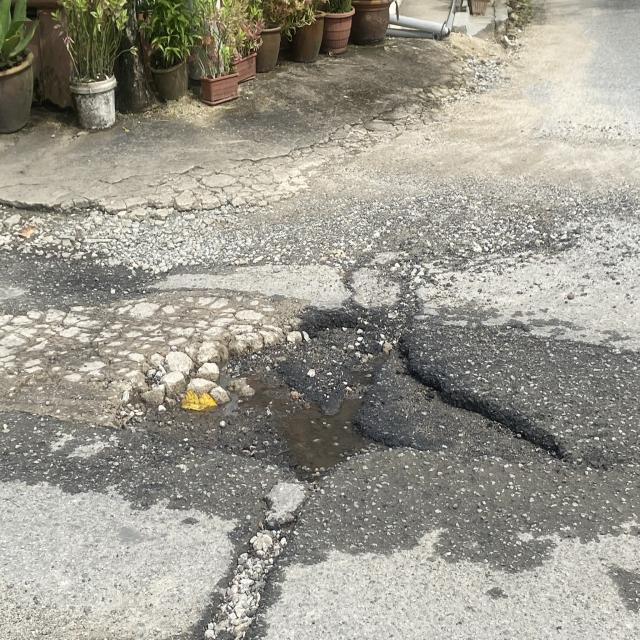pothole: (192, 303, 583, 564)
